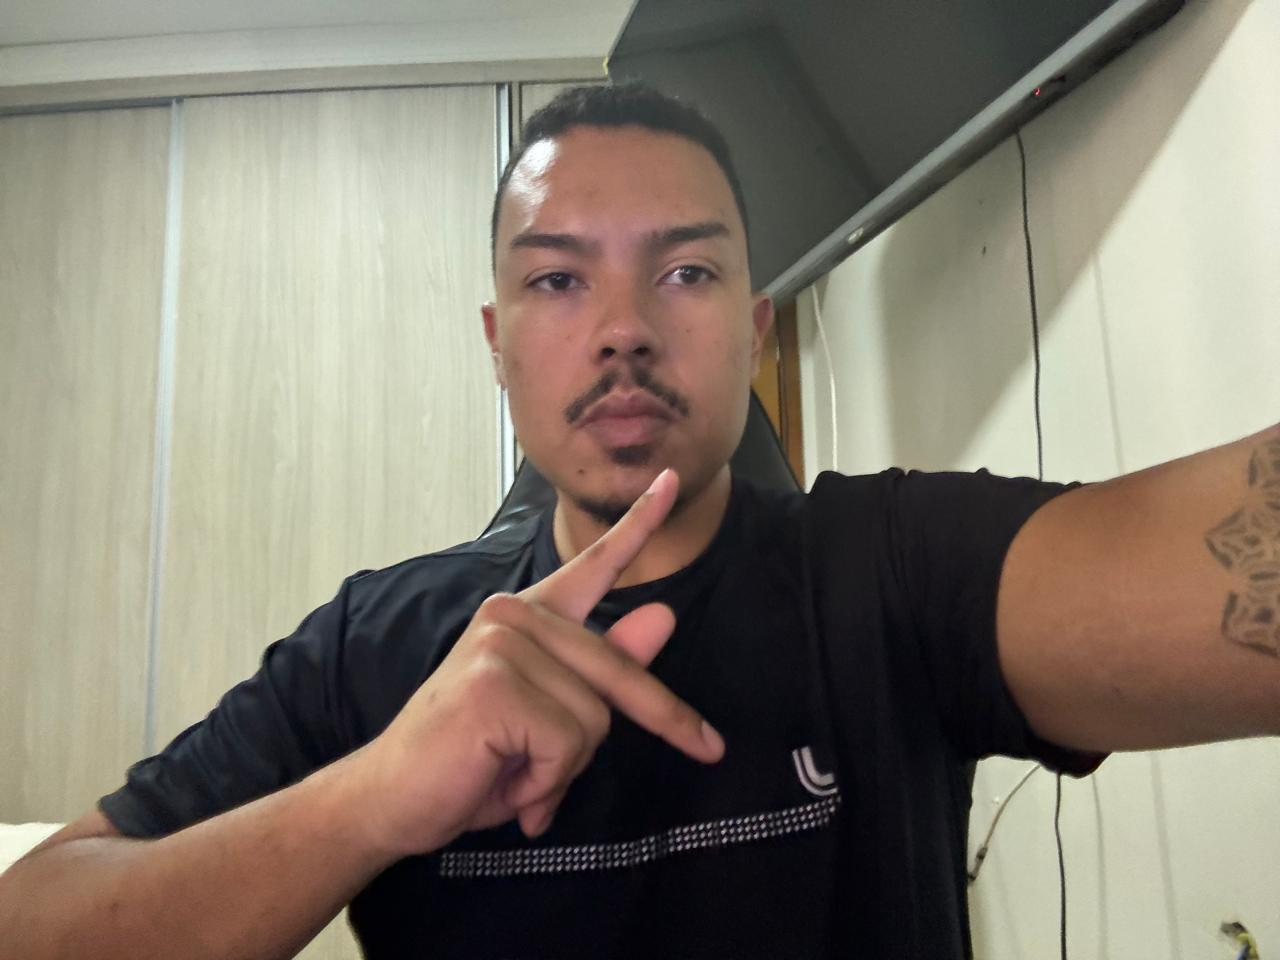p: (369, 455, 730, 844)
